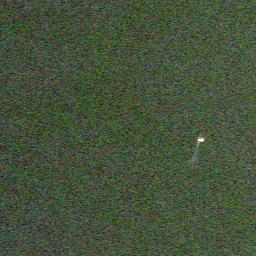Ship: (195, 132, 207, 148)
